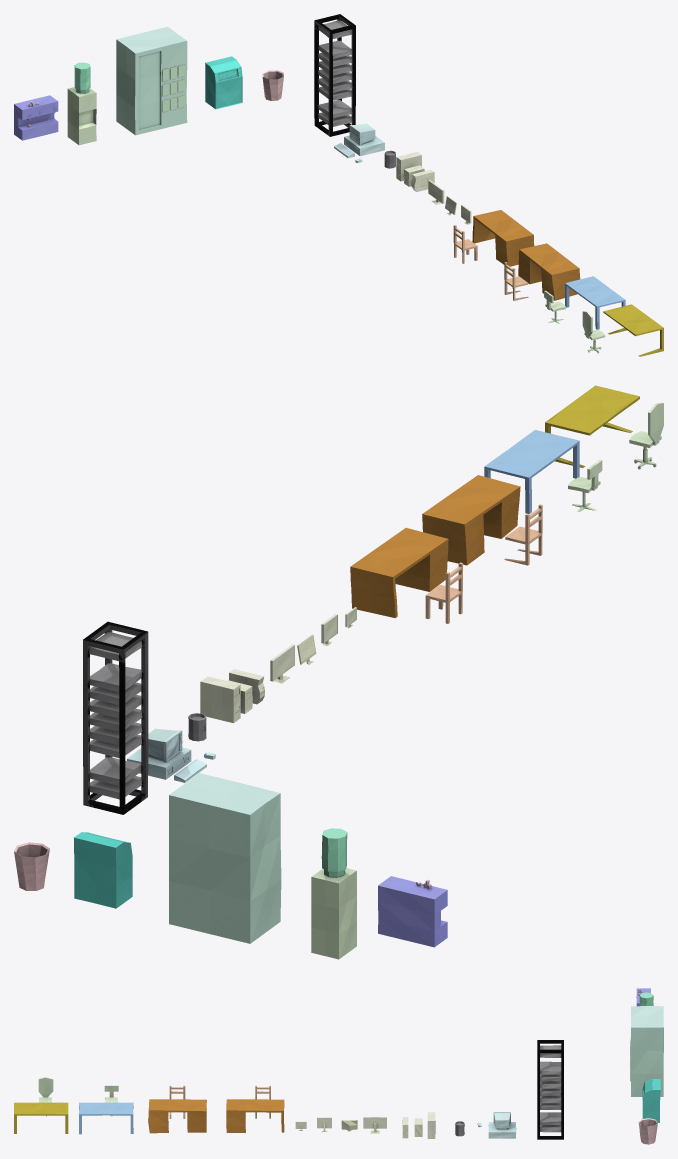
File: Low Poly Office Assets.fbx
3 views of the same model, one above another, from view 1: azimuth 30°, elevation 25°; view 2: azimuth 150°, elevation 25°; view 3: azimuth 270°, elevation 25° (orthographic). The views are drawn at different scales.
Parts seen in each view (by area): view 1: Object005; view 2: Object005; view 3: Object005.
Boxes of the visible parts, x1,y1,x2,y2 form: Object005: (14, 14, 663, 356); Object005: (14, 385, 663, 959); Object005: (14, 988, 663, 1144).
Size of the model in its own units: 2611 by 1047 by 6289.
Materials: 1 (1 with a texture image).
